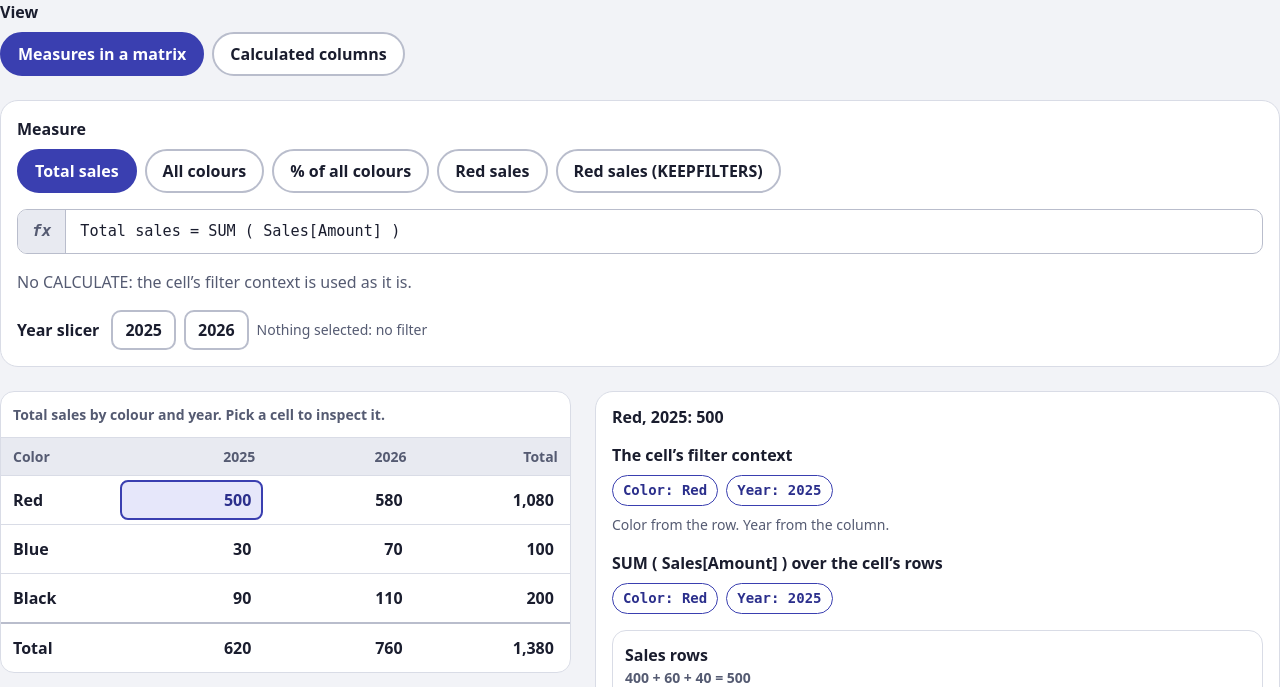
Filter context simulator › context transition: SUM alone vs CALCULATE in a calculated column
Click the radio button labelled "Calculated columns".
click(308, 54)  # box [212,32,405,76]
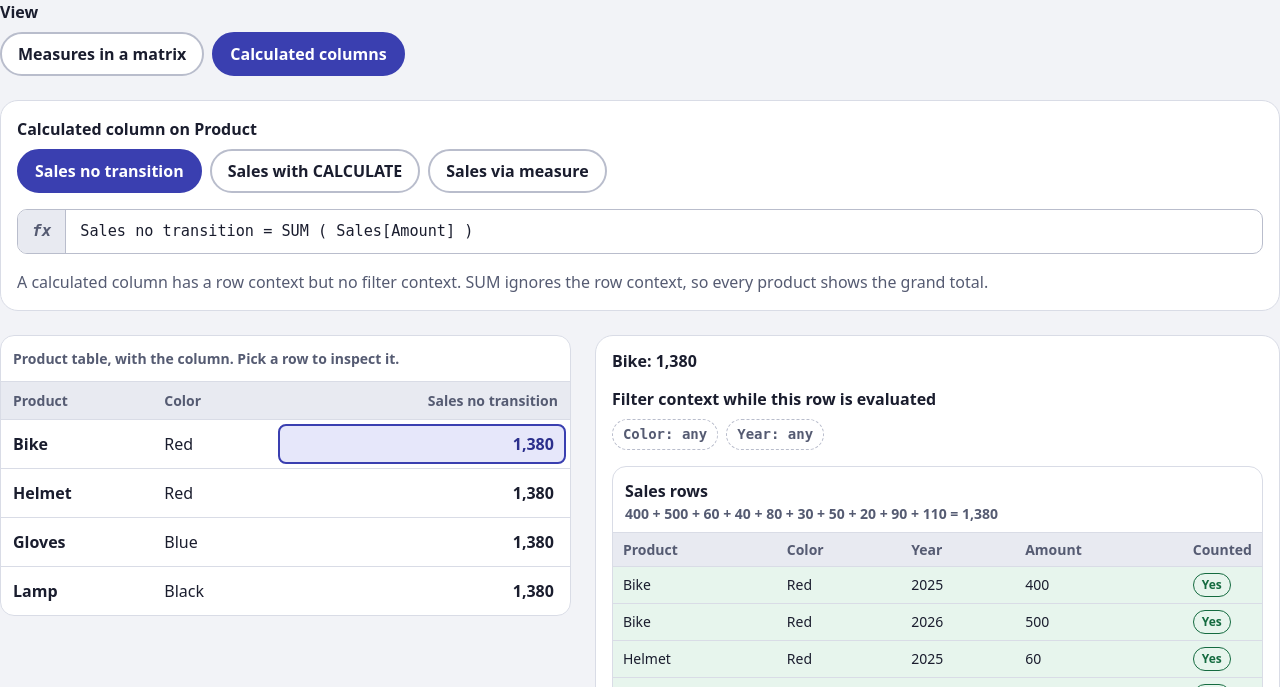
Check: the button named "Bike: 1,380" is shown, box [278,424,566,464]
Click the radio button labelled "Sales with CALCULATE".
click(315, 171)  # box [210,149,420,193]
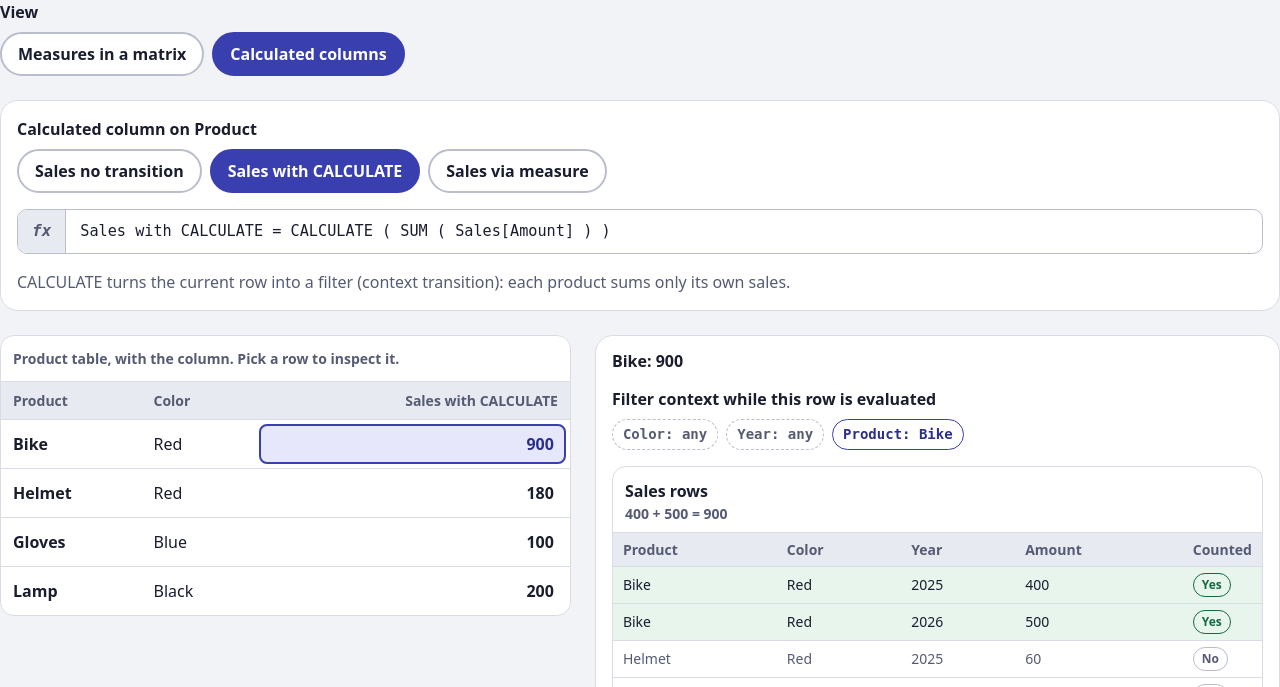
Check: the button named "Bike: 900" is shown, box [259,424,566,464]
